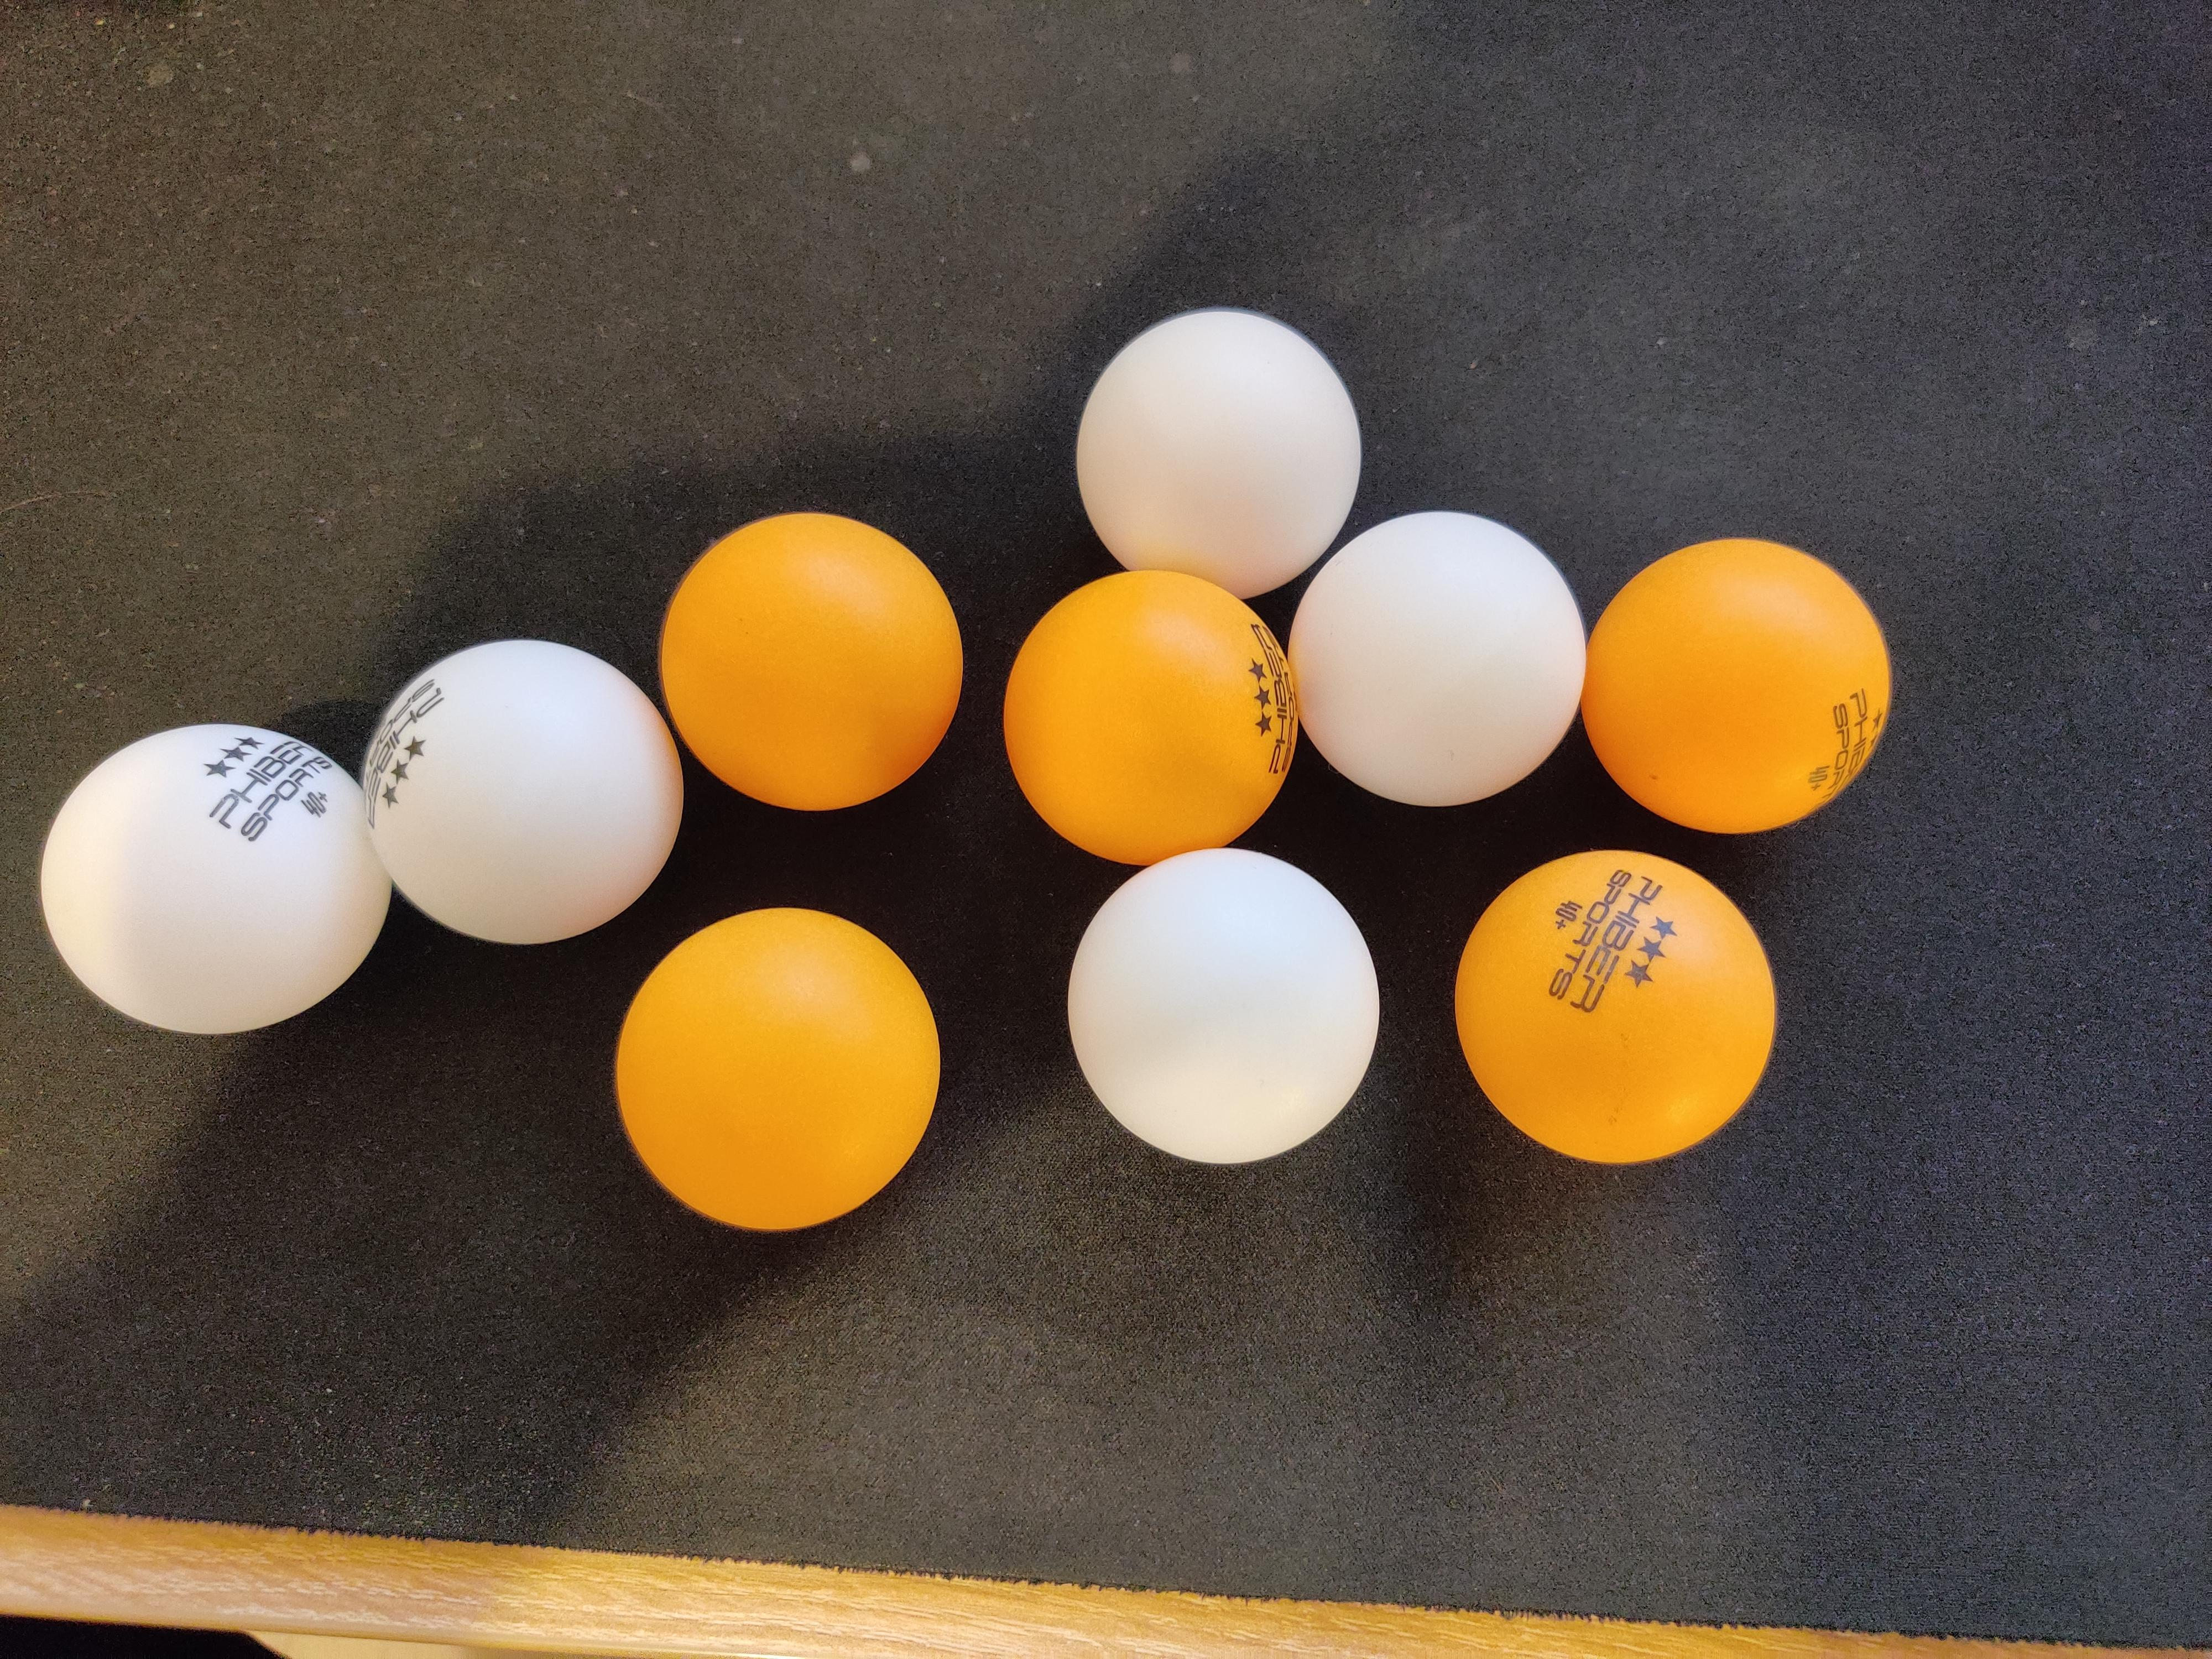orange: (613, 903, 944, 1236), (1453, 847, 1780, 1169), (1578, 533, 1895, 836), (657, 504, 963, 814), (1001, 566, 1301, 868)
white: (37, 718, 395, 1037), (1066, 847, 1385, 1164), (364, 636, 686, 948), (1285, 507, 1595, 812), (1071, 308, 1360, 599)
